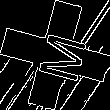M_W: (25, 26, 85, 84)
